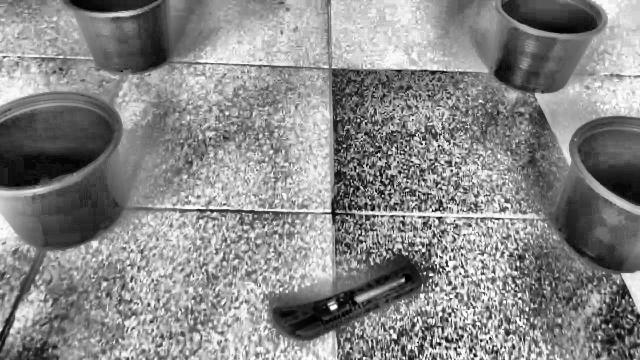pot: (0, 92, 127, 250), (552, 117, 640, 274), (490, 0, 608, 94), (60, 0, 173, 75)
